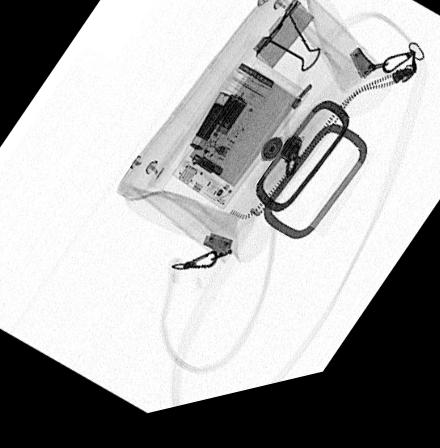Powerbank: (171, 69, 309, 220)
